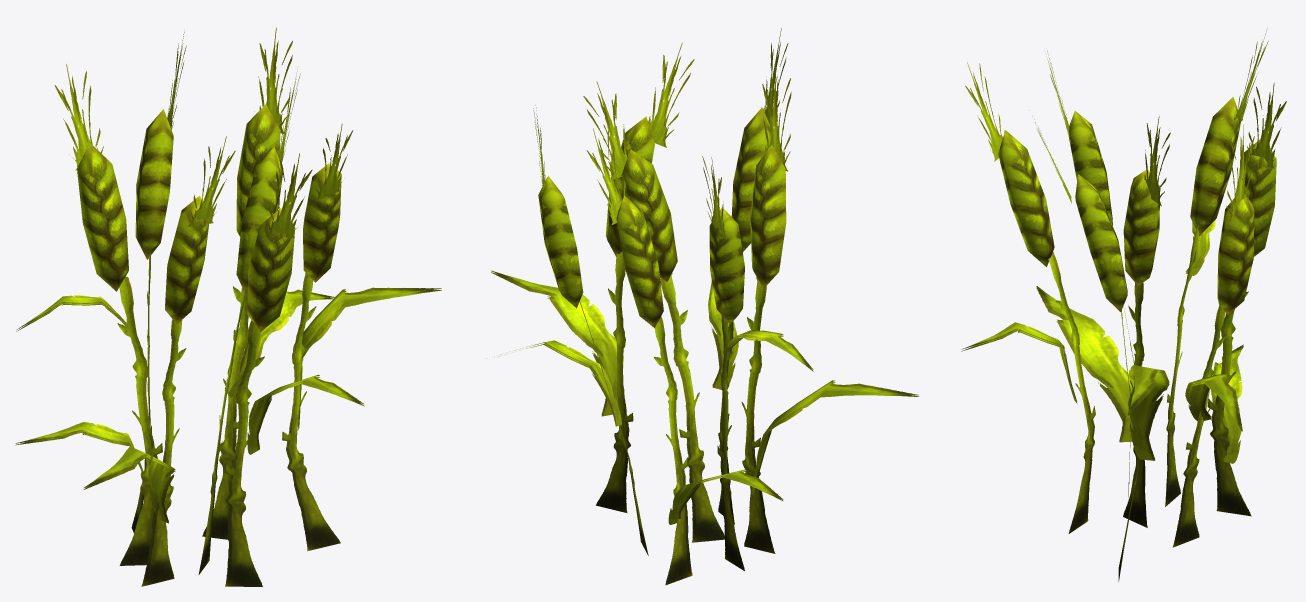
File: wheat_stage2.FBX
3 renders of one model, left to right at view 1: azimuth 30°, elevation 25°; view 2: azimuth 150°, elevation 25°; view 3: azimuth 270°, elevation 25°, orthographic. The views are drawn at different scales.
Visible parts, largest first — view 1: wheat_stage2; view 2: wheat_stage2; view 3: wheat_stage2.
Part boxes in pixels (x1=…): wheat_stage2: x1=15, y1=27, x2=441, y2=586; wheat_stage2: x1=491, y1=28, x2=918, y2=585; wheat_stage2: x1=961, y1=28, x2=1286, y2=581.
Bounding box in the file's own units: 5.86 × 6.47 × 4.15.
1 material, 1 textured.
